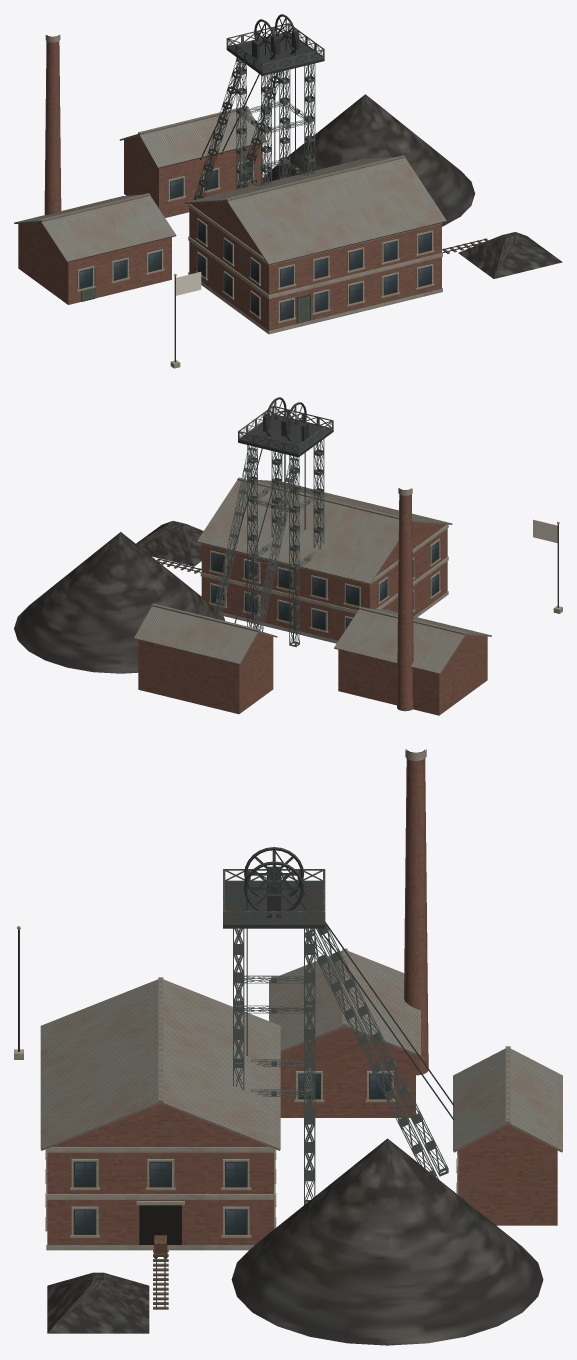
The model's file is coalMine.glb.
3 views of the same model, one above another, from view 1: azimuth 30°, elevation 25°; view 2: azimuth 150°, elevation 25°; view 3: azimuth 270°, elevation 25° (orthographic). The views are drawn at different scales.
Parts seen in each view (by area): view 1: recette, chaufferie, chevalement, drapeau; view 2: chaufferie, recette, chevalement, drapeau; view 3: chaufferie, recette, chevalement, molette_2, molette_1.
Boxes of the visible parts, box(x1,y1,x2,y2) form: recette: box(184, 155, 446, 334); chaufferie: box(14, 35, 562, 304); chevalement: box(119, 18, 324, 217); drapeau: box(176, 272, 201, 295); chaufferie: box(14, 488, 491, 715); recette: box(197, 477, 452, 643); chevalement: box(134, 401, 333, 714); drapeau: box(533, 519, 557, 542); chaufferie: box(47, 749, 543, 1345); recette: box(40, 977, 280, 1250); chevalement: box(223, 850, 562, 1225); molette_2: box(244, 861, 304, 910); molette_1: box(244, 847, 304, 896).
Size of the model in its own units: 50.3 by 26.12 by 38.72.
16 materials, 15 textured.
